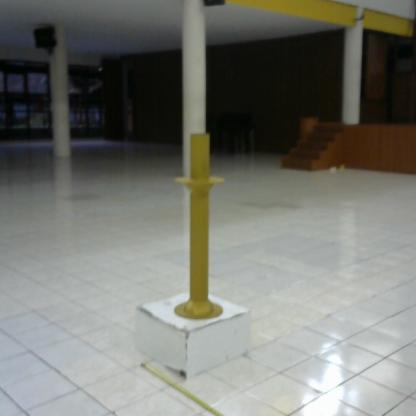pole: (170, 128, 231, 330)
